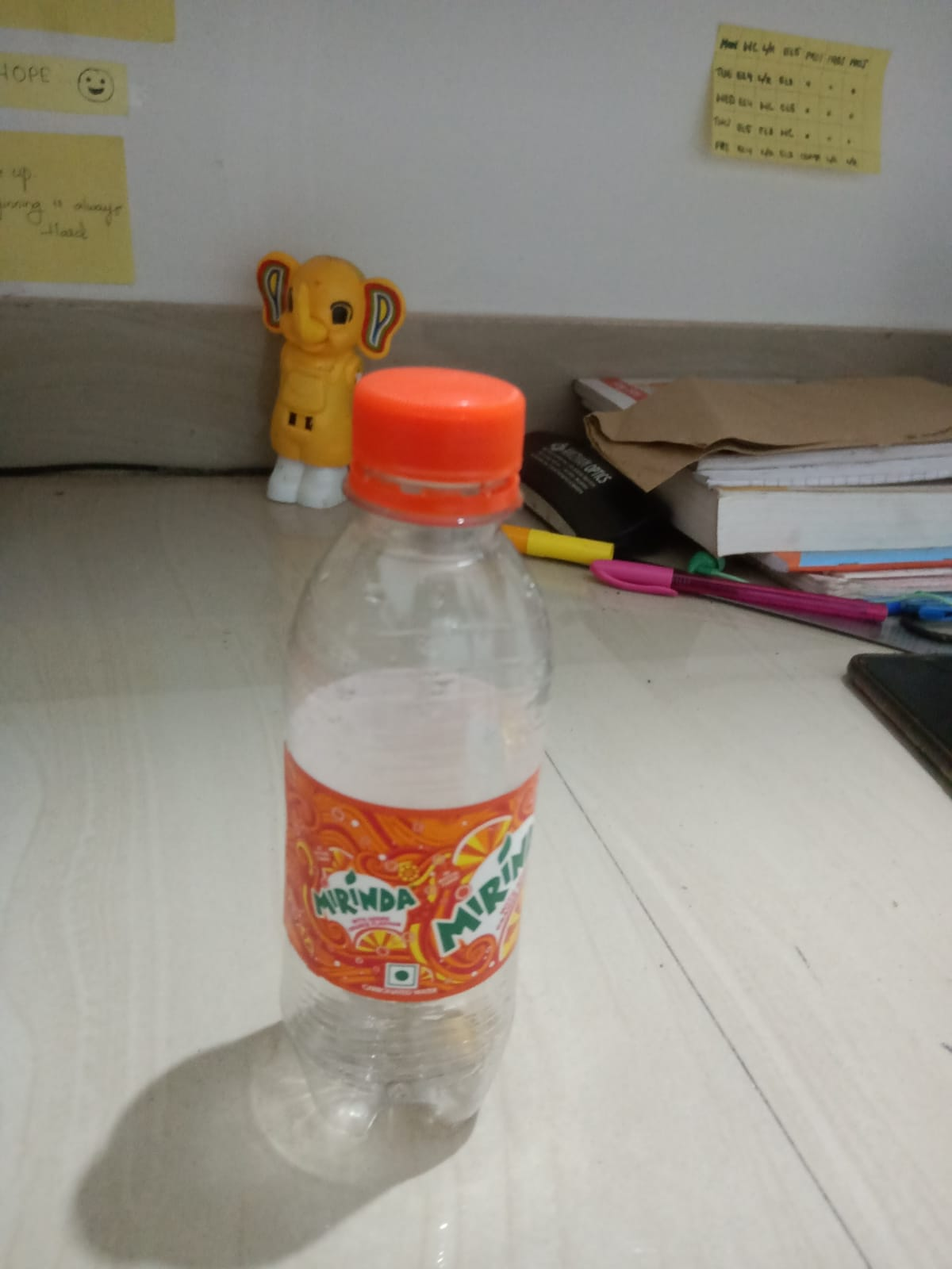plastic: (244, 339, 566, 1162)
